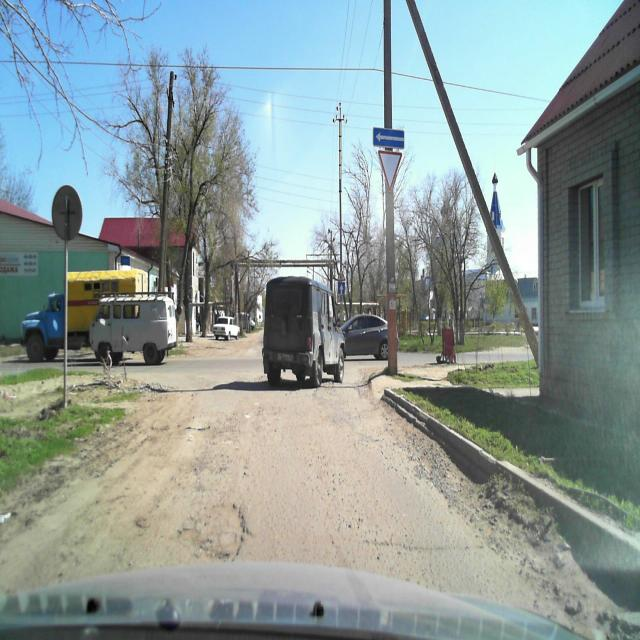road sign: (377, 149, 403, 192), (371, 126, 403, 148), (338, 282, 345, 295), (337, 270, 345, 281)
